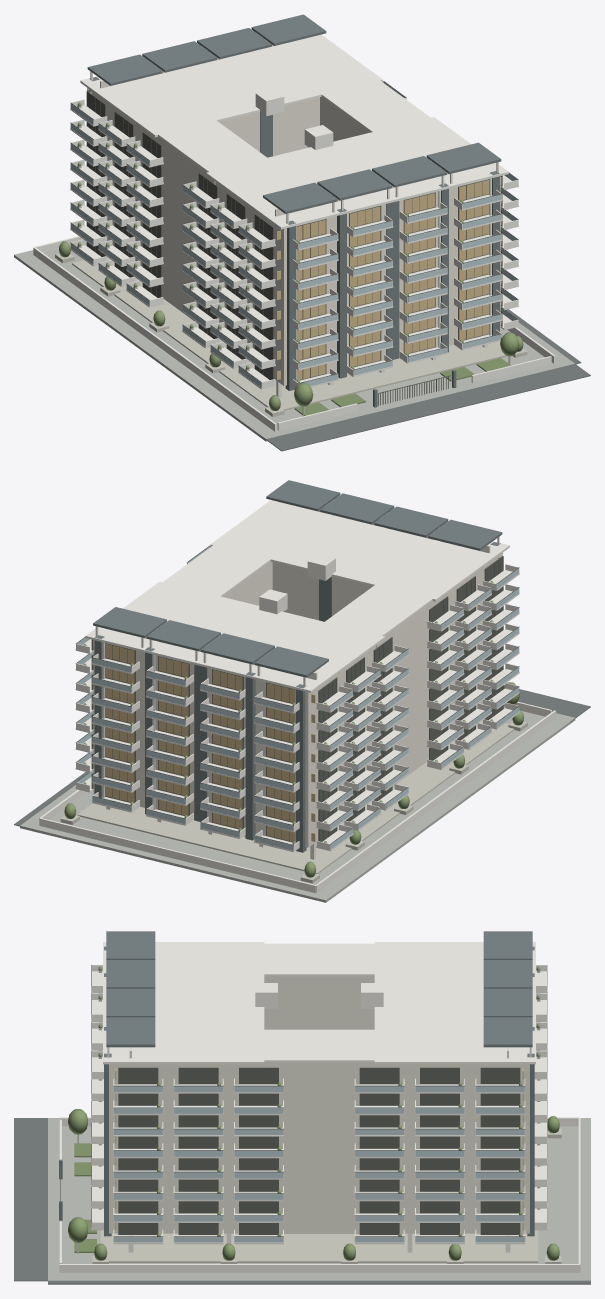
The model's file is 27th-avenue-exterior.glb.
The picture shows the model from 3 angles, top to bottom: view 1: azimuth 30°, elevation 25°; view 2: azimuth 150°, elevation 25°; view 3: azimuth 270°, elevation 25°; orthographic projection. The views are drawn at different scales.
Parts seen in each view (by area): view 1: 27th Avenue — brochure-based exterior; view 2: 27th Avenue — brochure-based exterior; view 3: 27th Avenue — brochure-based exterior.
Part boxes in pixels (x1,y1,x2,y2): 27th Avenue — brochure-based exterior: [14, 14, 590, 451]; 27th Avenue — brochure-based exterior: [14, 480, 590, 902]; 27th Avenue — brochure-based exterior: [14, 931, 590, 1284].
Bounding box in the file's own units: 52 × 31.32 × 76.5.
